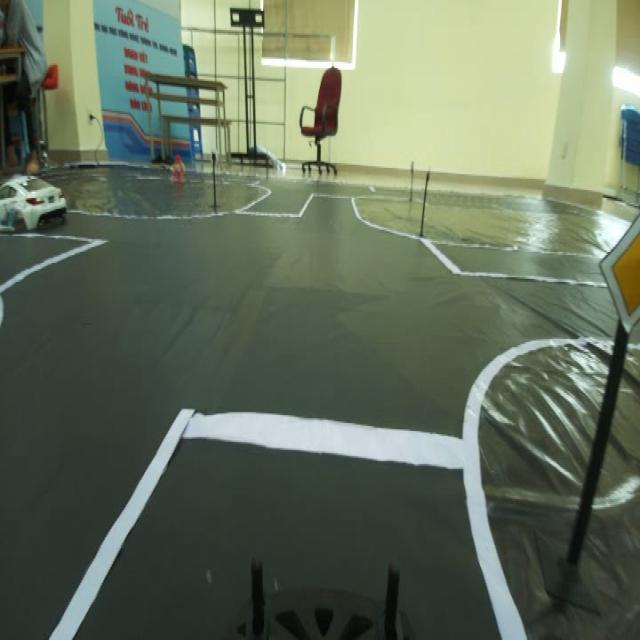priority: (597, 222, 640, 337)
